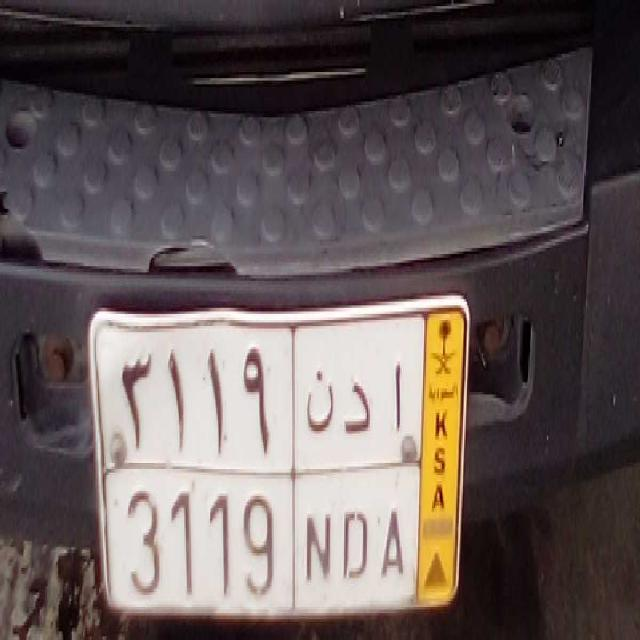license_plate: (100, 458, 420, 640)
